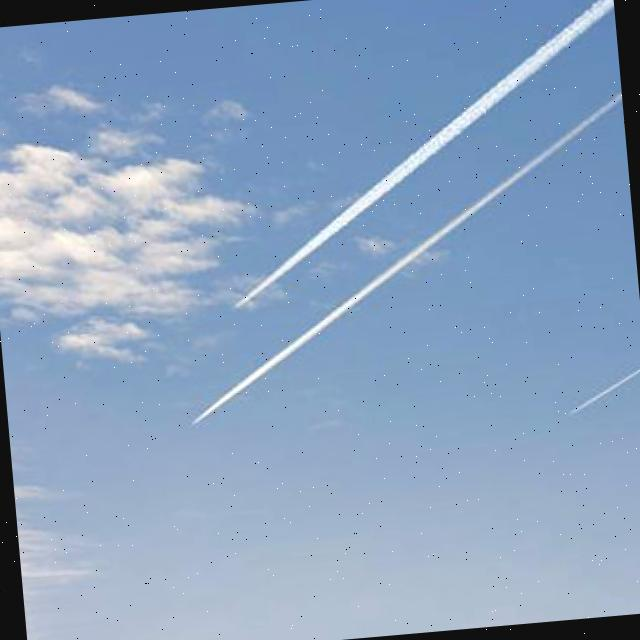Ct: (84, 1, 640, 499)
